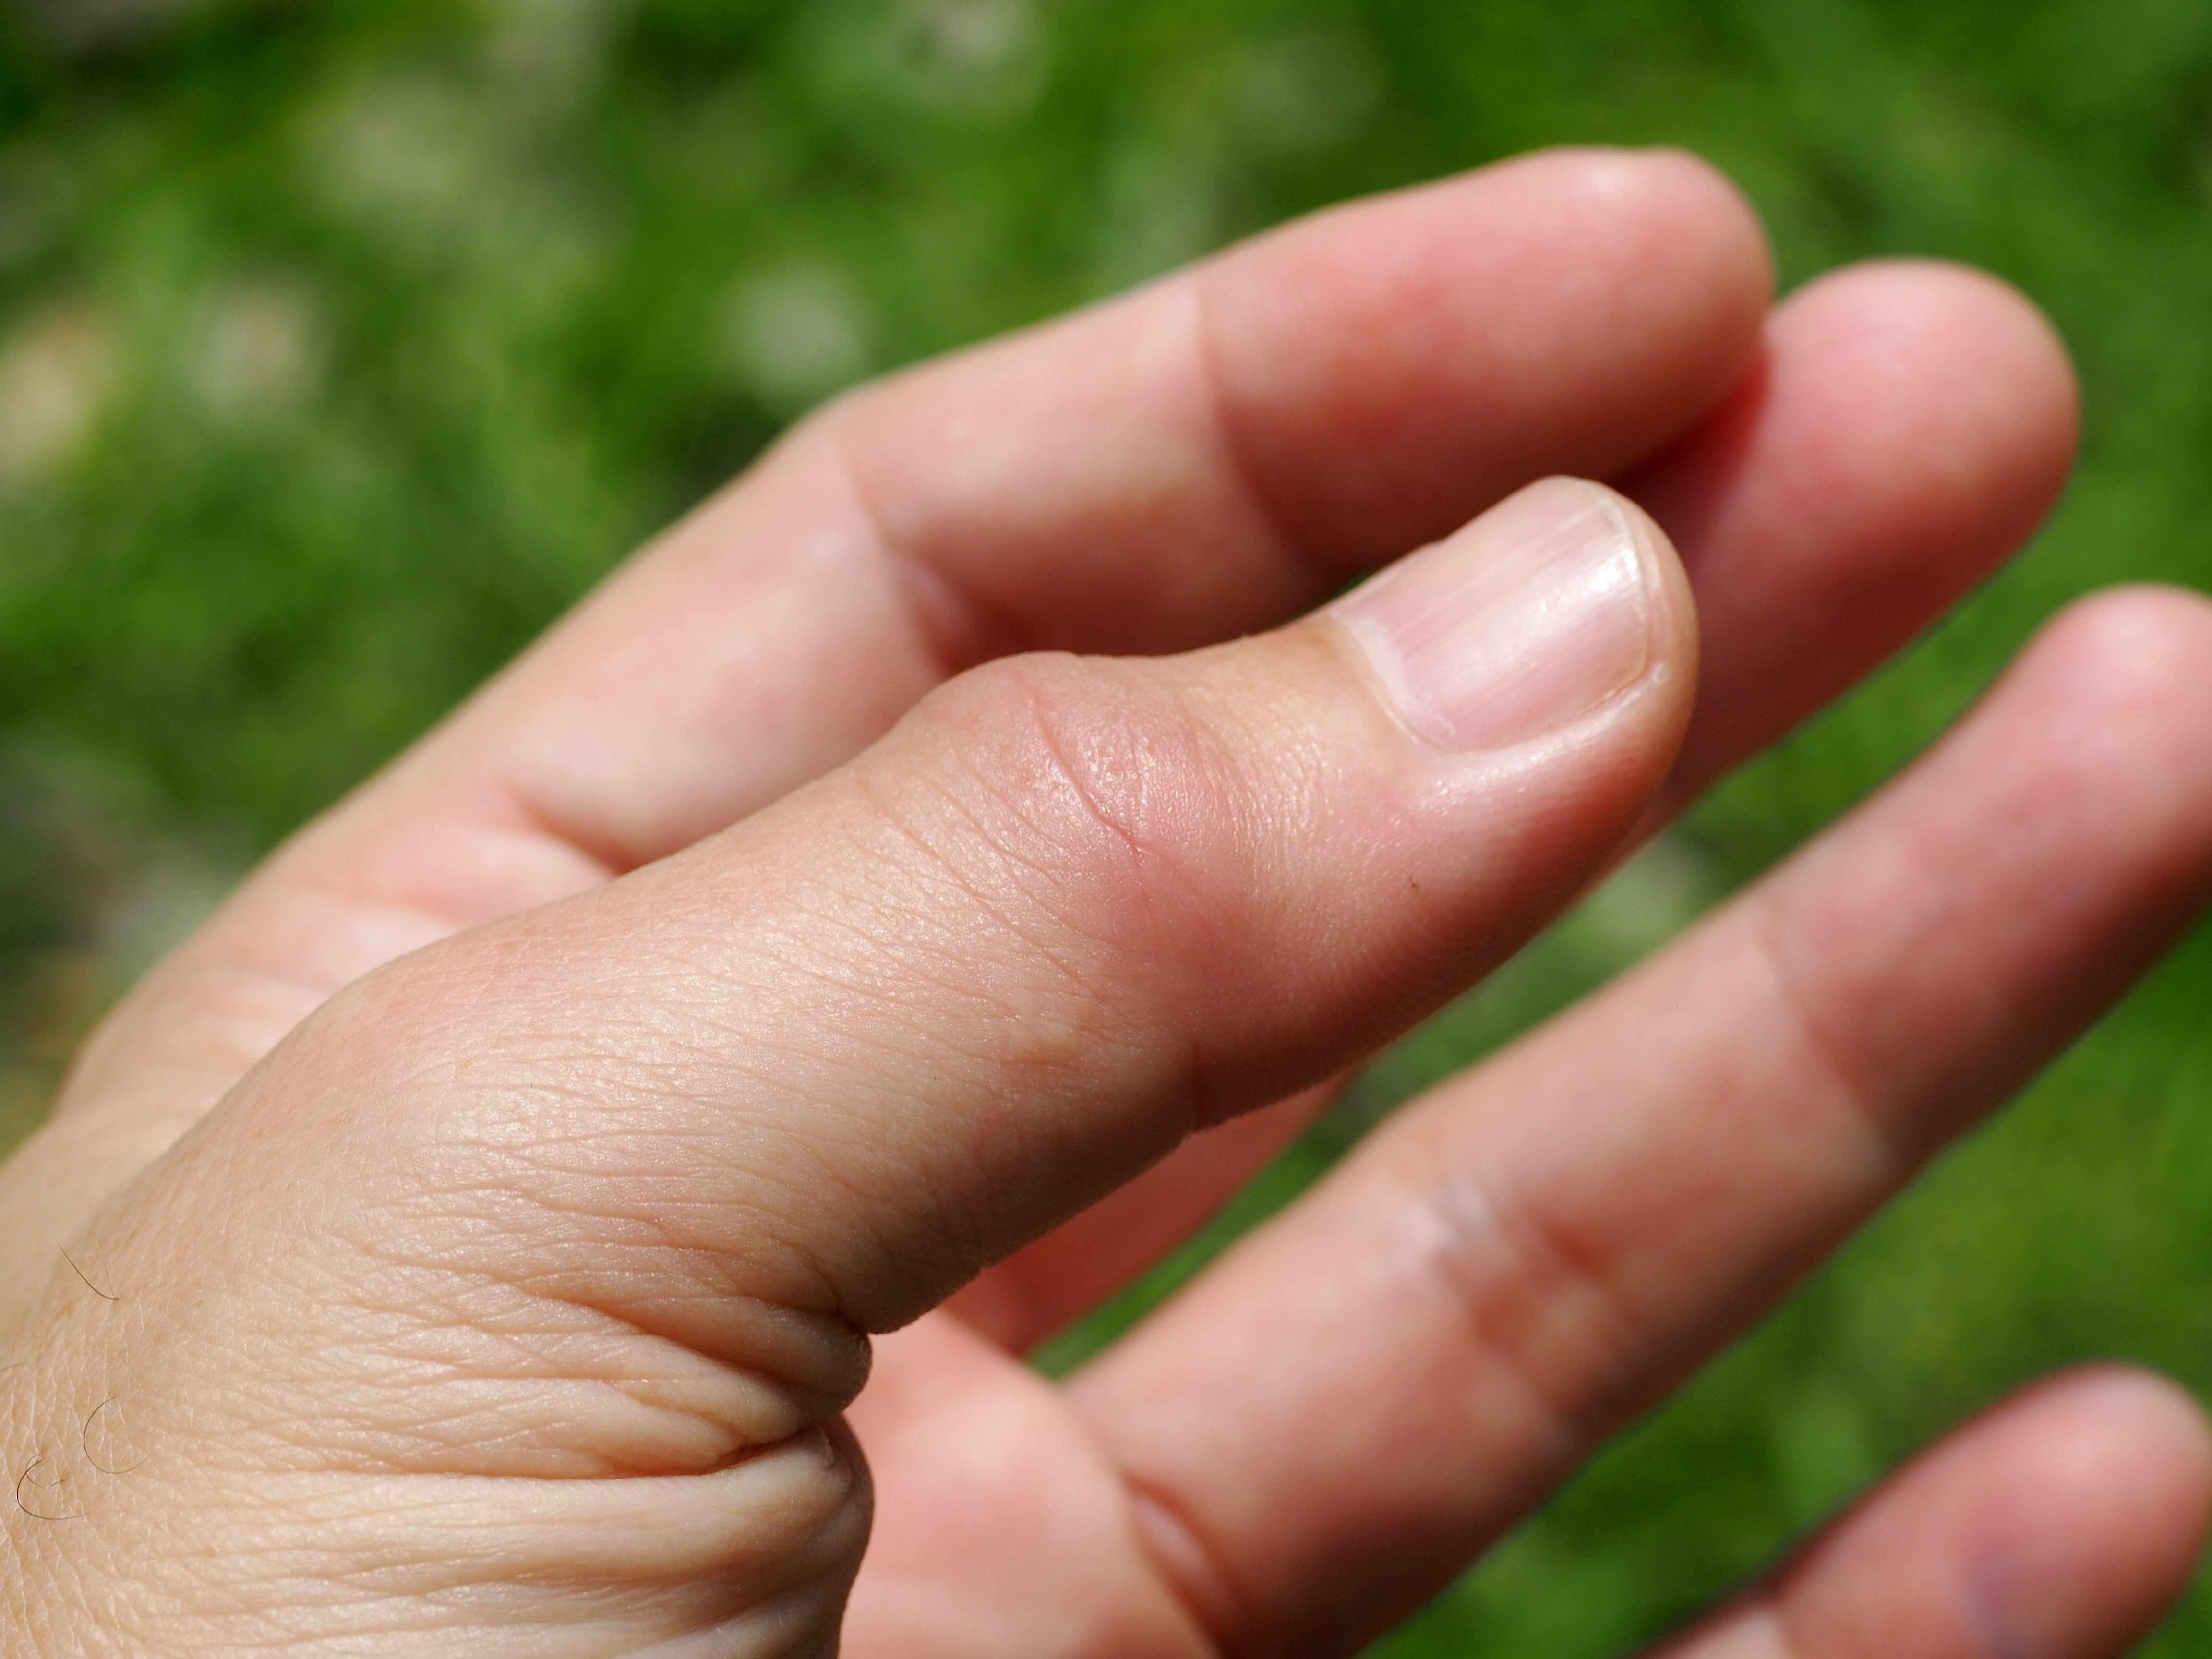finger: (1035, 606, 2196, 1605), (960, 251, 2031, 1333), (357, 132, 1728, 831)
